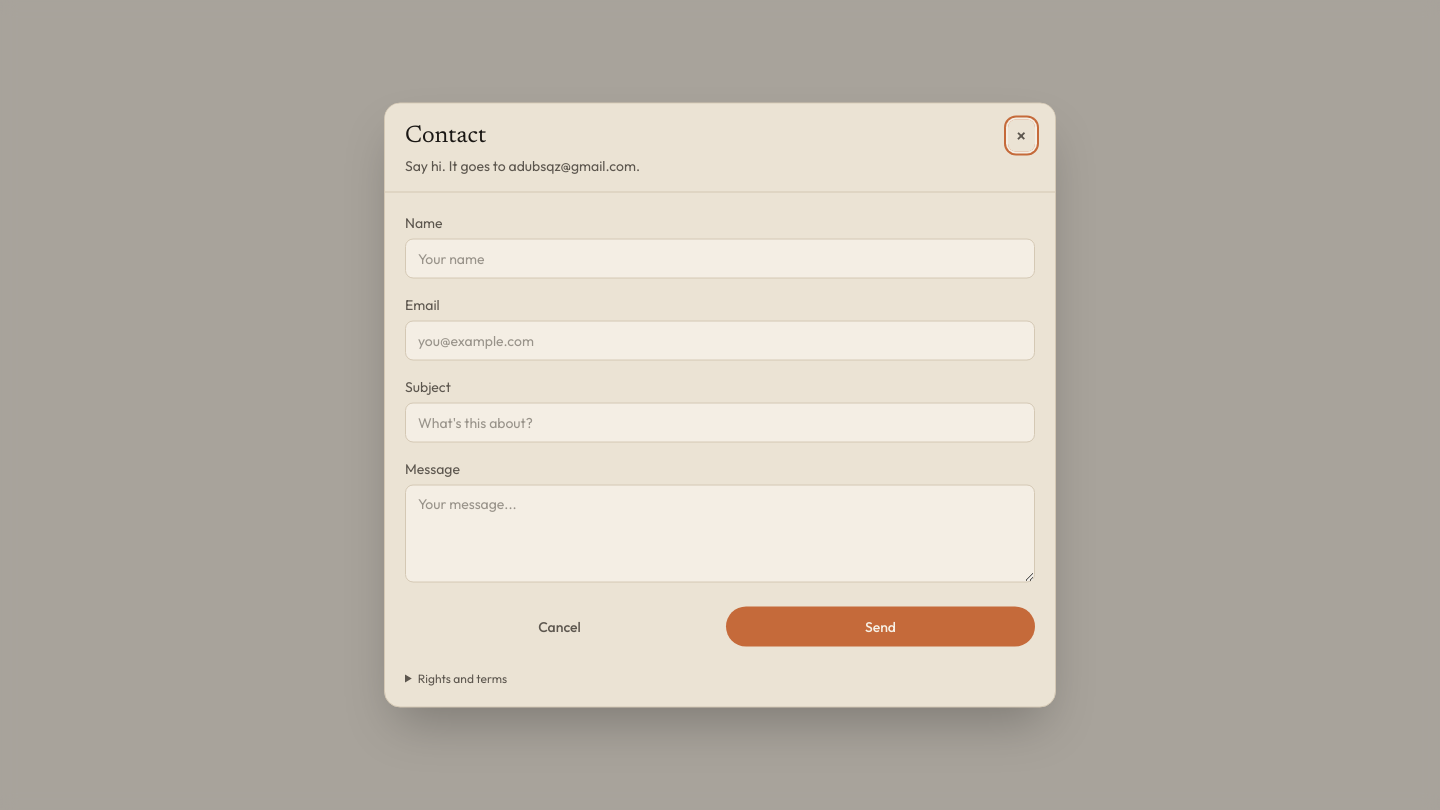
ContactModal › submits form with mailto link and closes modal
Step 1. Type "Jane" into the field labelled "Name" → (720, 258), box [405,238,1035,278]
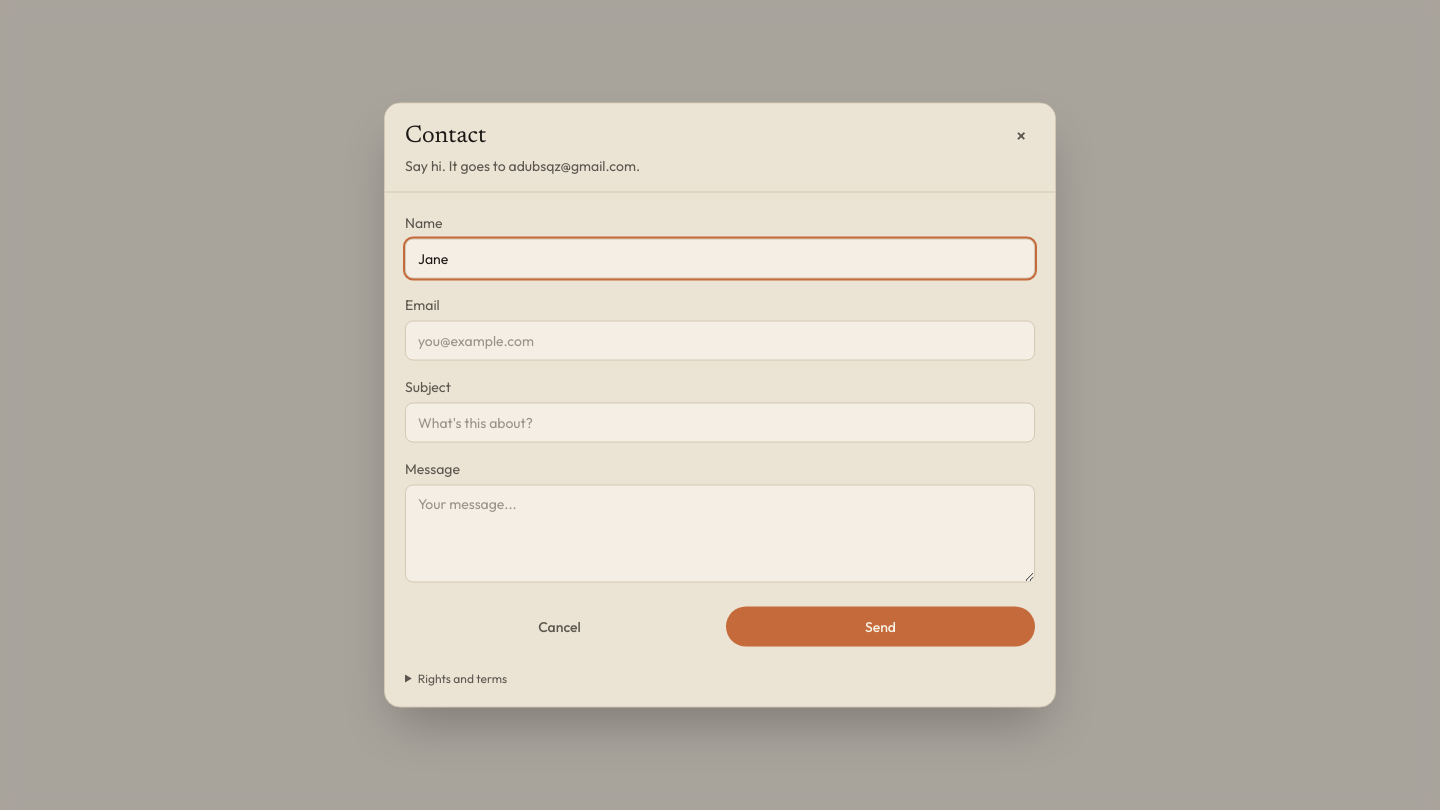
Step 2. Type "jane@example.com" into the field labelled "Email" → (720, 340), box [405,320,1035,360]
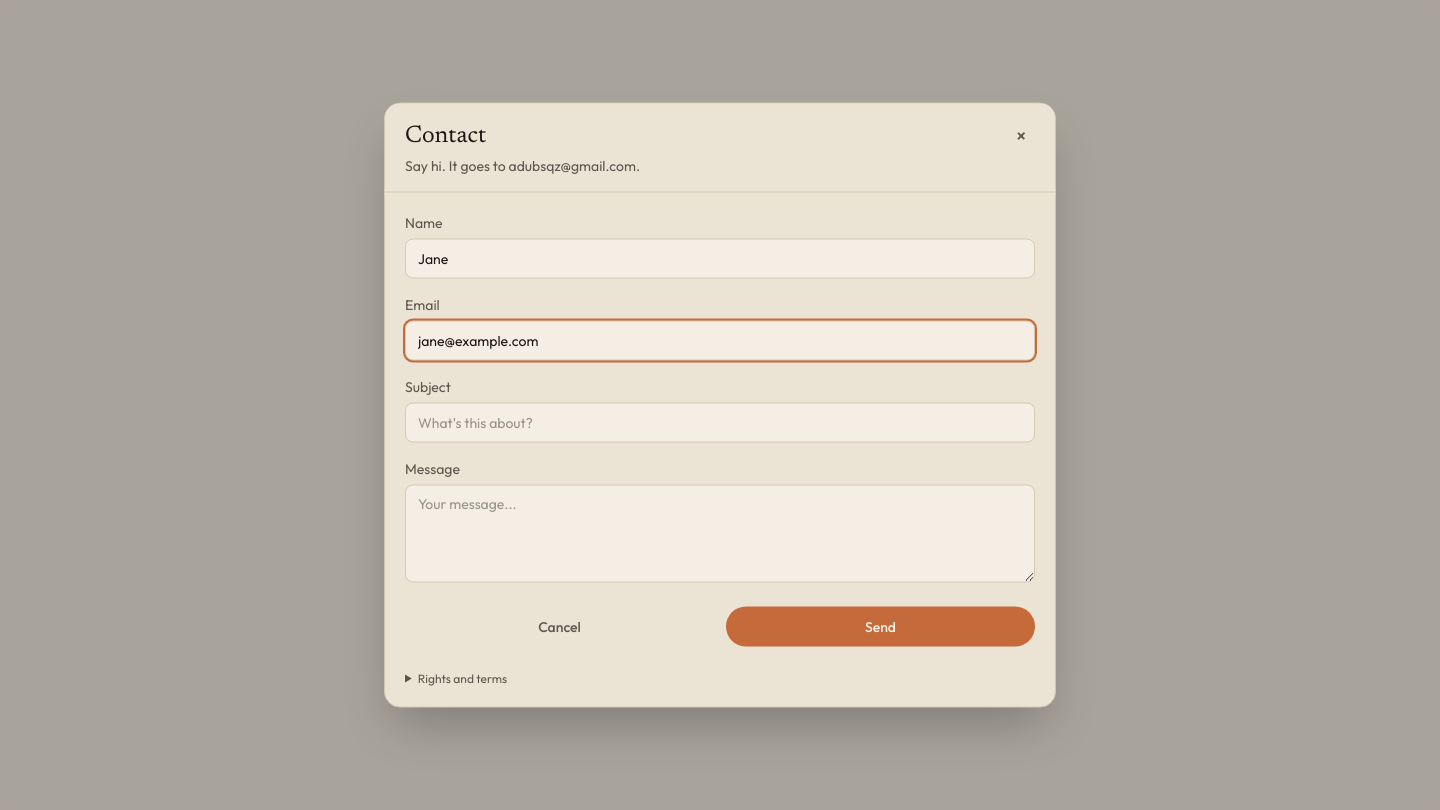
Step 3. Type "Hello" into the field labelled "Subject" → (720, 422), box [405,402,1035,442]
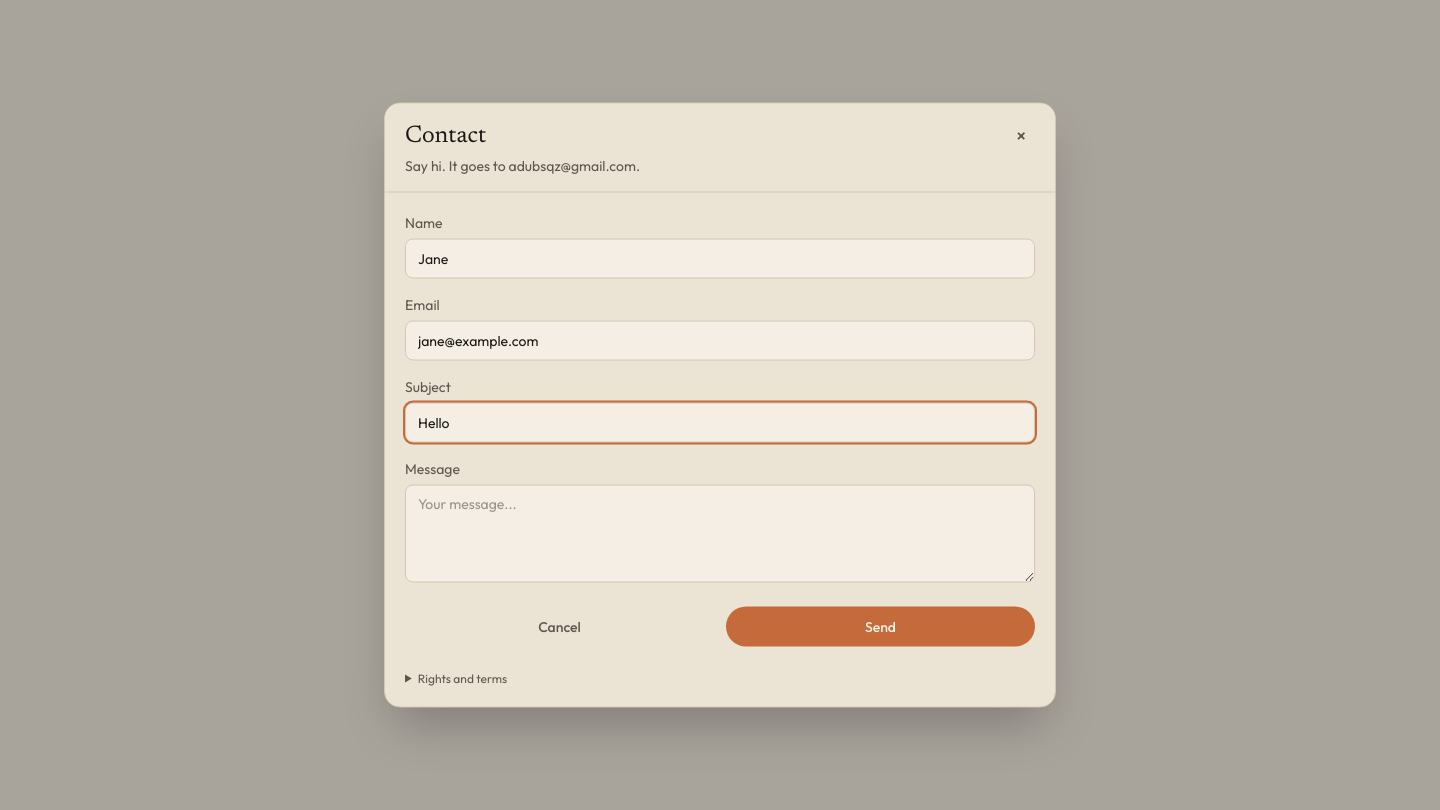
Step 4. Type "Hi there" into the text box labelled "Message" → (720, 534), box [405,484,1035,582]
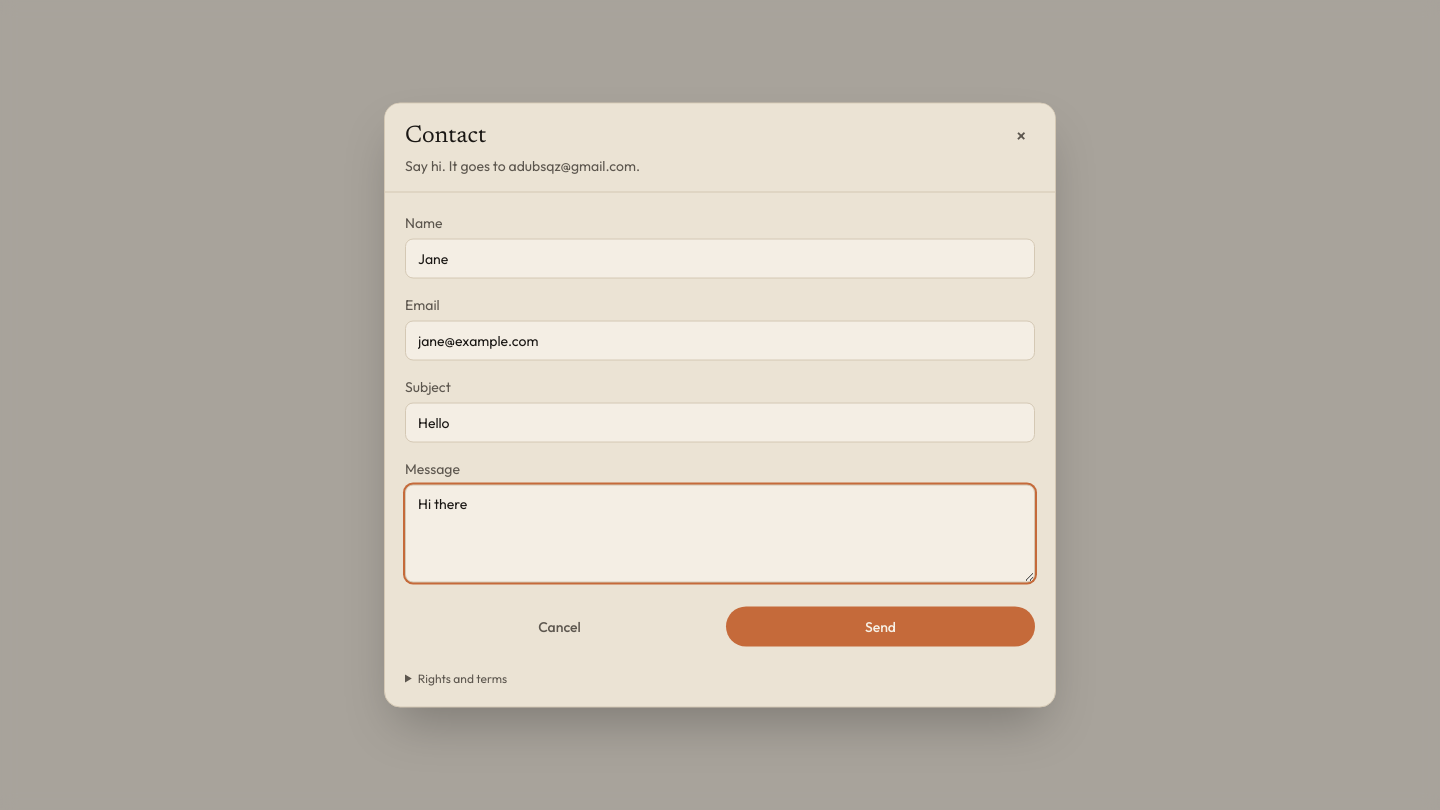
Step 5. Click the button "Send" → (880, 626), box [726,606,1035,646]
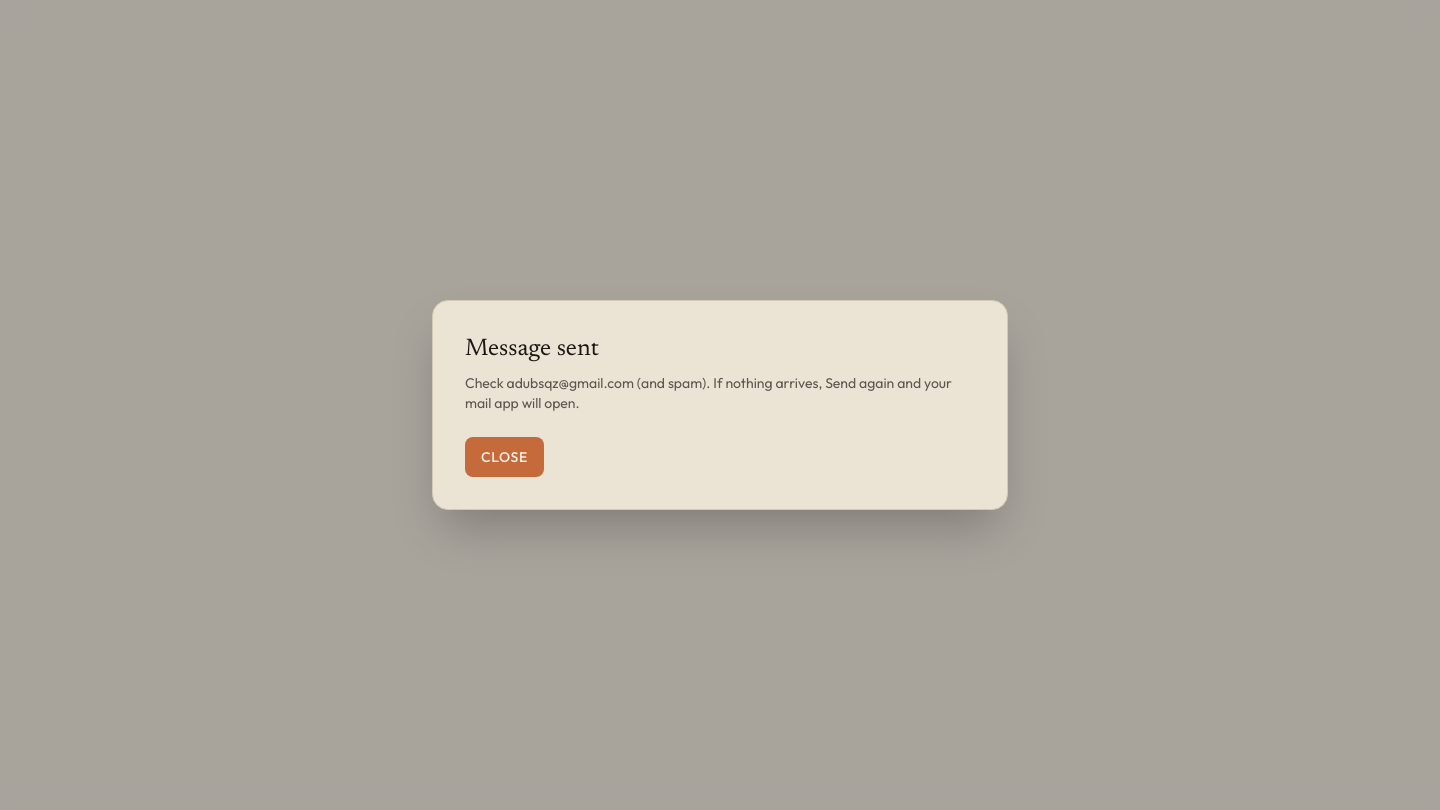
Now the heading "Message sent" is shown, box [465,337,599,361]
